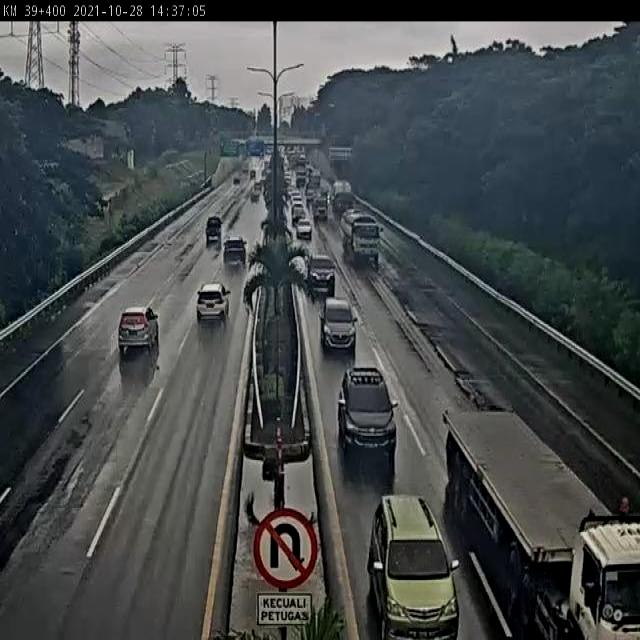Car: (365, 494, 461, 640), (336, 364, 397, 466), (319, 294, 357, 352), (118, 305, 160, 354), (196, 283, 231, 327), (307, 255, 336, 297), (222, 236, 248, 267), (296, 217, 312, 240), (233, 176, 240, 185)
Truck: (441, 405, 640, 636), (339, 207, 384, 263), (331, 180, 355, 219), (205, 216, 222, 243), (313, 196, 329, 222), (295, 165, 306, 187), (308, 168, 321, 186), (242, 160, 250, 174)
